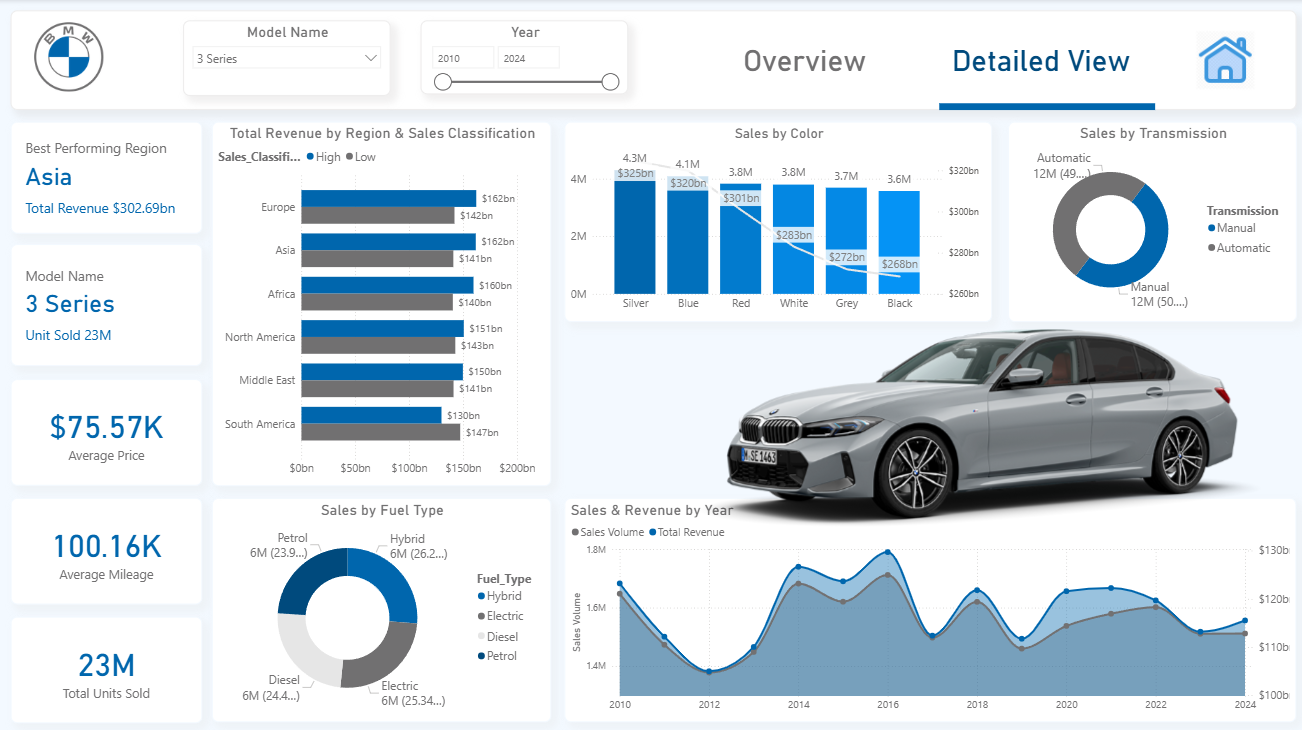

This screenshot's page, from the dashboard's own definition file:
{"tool":"powerbi","page":{"name":"Detailed View","canvas":[1920,1080],"ordinal":2},"visuals":[{"type":"cardVisual","fields":{"Data":["Min(BMW_Car_Sales_Classification.Region)"]},"box":[18.5,179.1,282,164.7],"z":0},{"type":"card","fields":{"Values":["Measures Table.Average Price"]},"box":[18.5,557.8,282,156.4],"z":1000},{"type":"cardVisual","fields":{"Data":["Min(BMW_Car_Sales_Classification.Model)"]},"box":[18.5,360.2,282,179.1],"z":2000},{"type":"card","fields":{"Values":["Measures Table.Average Mileage"]},"box":[18.5,732.8,282,156.4],"z":3000},{"type":"shape","box":[18.5,16.5,1887.5,146.1],"z":4000},{"type":"card","fields":{"Values":["Measures Table.Total Units Sold"]},"box":[18.5,905.7,282,156.4],"z":5000},{"type":"image","box":[45.3,28.8,115.3,111.1],"z":6000},{"type":"textbox","box":[1035.3,59.7,298.5,80.3],"z":7000},{"type":"shape","box":[1381.1,113,317,88.5],"z":8000},{"type":"textbox","box":[1362.6,59.7,335.5,80.3],"z":9000},{"type":"image","box":[1751.6,35,98.8,109.1],"z":10000},{"type":"lineChart","title":"Sales & Revenue by Year","fields":{"Category":["BMW_Car_Sales_Classification.Year"],"Y":["Sum(BMW_Car_Sales_Classification.Sales_Volume)"],"Y2":["Measures Table.Total Revenue"]},"box":[831.6,732.8,1074.4,329.3],"z":11000},{"type":"lineStackedColumnComboChart","title":"Sales by Color","fields":{"Category":["BMW_Car_Sales_Classification.Color"],"Y":["Sum(BMW_Car_Sales_Classification.Sales_Volume)"],"Y2":["Measures Table.Total Revenue"]},"box":[831.6,179.1,627.8,294.3],"z":12000},{"type":"donutChart","title":"Sales by Fuel Type","fields":{"Category":["BMW_Car_Sales_Classification.Fuel_Type"],"Y":["Sum(BMW_Car_Sales_Classification.Sales_Volume)"]},"box":[312.9,732.8,498.1,329.3],"z":13000},{"type":"slicer","title":"Model Name","fields":{"Values":["BMW_Car_Sales_Classification.Model"]},"box":[271.7,30.9,304.6,111.1],"z":14000},{"type":"slicer","title":"Year","fields":{"Values":["BMW_Car_Sales_Classification.Year"]},"box":[619.6,30.9,304.6,109.1],"z":15000},{"type":"shape","box":[1035.3,20.6,298.5,144.1],"z":16000},{"type":"clusteredBarChart","title":"Total Revenue by Region & Sales Classification","fields":{"Category":["BMW_Car_Sales_Classification.Region"],"Y":["Measures Table.Total Revenue"],"Series":["BMW_Car_Sales_Classification.Sales_Classification"]},"box":[312.9,179.1,498.1,535.2],"z":17000},{"type":"donutChart","title":"Sales by Transmission","fields":{"Category":["BMW_Car_Sales_Classification.Transmission"],"Y":["Sum(BMW_Car_Sales_Classification.Sales_Volume)"]},"box":[1482,179.1,424,294.3],"z":18000},{"type":"imageDB603108E3FF4EBFB8047F5653368E8C","fields":{"imageUrl":["BMW Images.URL"],"imageTitle":["BMW_Car_Sales_Classification.Model"]},"box":[983.9,360.2,922.1,428.1],"z":19000}]}

Visuals, with their boxes in screenshot pixels (x1, y1, x2, y2), scaled from the page's 1920x1080 canvas onto the 1302x730 screenshot:
cardVisual - Min(BMW_Car_Sales_Classification.Region): box(13, 121, 204, 232)
card - Measures Table.Average Price: box(13, 377, 204, 483)
cardVisual - Min(BMW_Car_Sales_Classification.Model): box(13, 243, 204, 365)
card - Measures Table.Average Mileage: box(13, 495, 204, 601)
shape: box(13, 11, 1293, 110)
card - Measures Table.Total Units Sold: box(13, 612, 204, 718)
image: box(31, 19, 109, 95)
textbox: box(702, 40, 904, 95)
shape: box(937, 76, 1152, 136)
textbox: box(924, 40, 1152, 95)
image: box(1188, 24, 1255, 97)
"Sales & Revenue by Year" lineChart: box(564, 495, 1293, 718)
"Sales by Color" lineStackedColumnComboChart: box(564, 121, 990, 320)
"Sales by Fuel Type" donutChart: box(212, 495, 550, 718)
"Model Name" slicer: box(184, 21, 391, 96)
"Year" slicer: box(420, 21, 627, 95)
shape: box(702, 14, 904, 111)
"Total Revenue by Region & Sales Classification" clusteredBarChart: box(212, 121, 550, 483)
"Sales by Transmission" donutChart: box(1005, 121, 1293, 320)
imageDB603108E3FF4EBFB8047F5653368E8C - BMW Images.URL x BMW_Car_Sales_Classification.Model: box(667, 243, 1293, 533)
